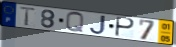7: (138, 18, 157, 42)
8: (40, 9, 56, 29)
J: (88, 14, 107, 35)
P: (114, 16, 137, 38)
Q: (65, 11, 86, 34)
T: (18, 6, 37, 27)
